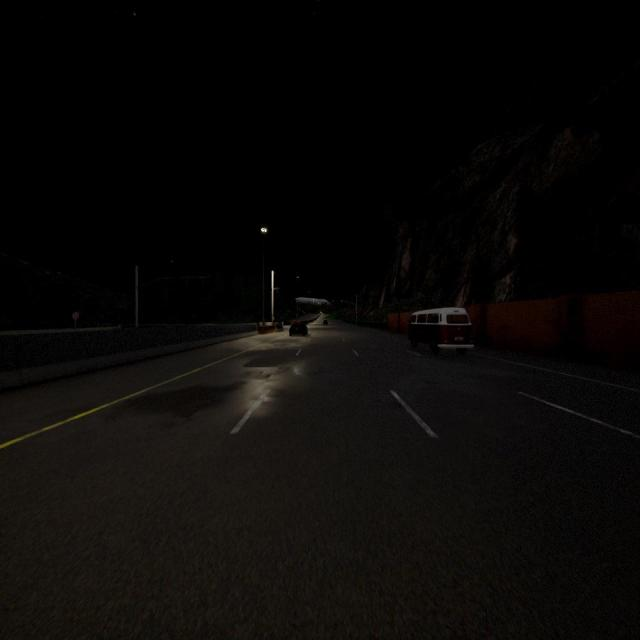Traffic_Signs: (72, 312, 80, 320)
Vehicle: (408, 307, 473, 354), (289, 320, 308, 337), (323, 320, 328, 325)
traffic_light: (332, 300, 334, 303), (341, 300, 343, 303), (356, 310, 357, 316)
